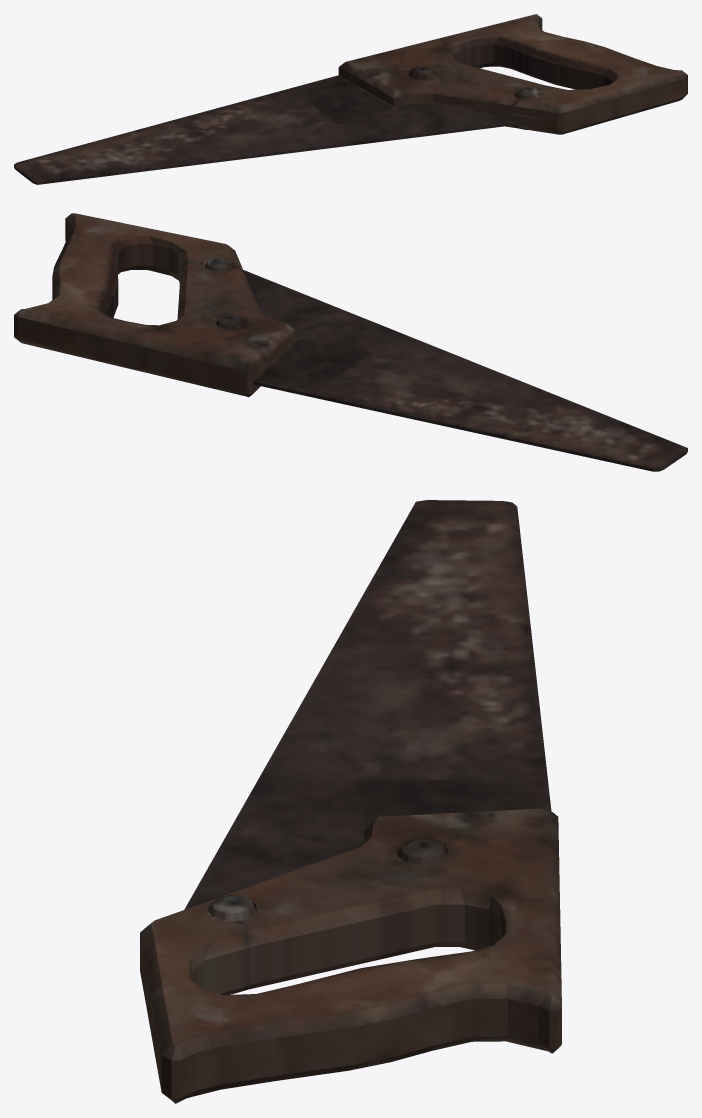
File: hand_saw_1.obj
3 renders of one model, top to bottom at view 1: azimuth 30°, elevation 25°; view 2: azimuth 150°, elevation 25°; view 3: azimuth 270°, elevation 25°, orthographic. The views are drawn at different scales.
Parts seen in each view (by area): view 1: hand_saw_1; view 2: hand_saw_1; view 3: hand_saw_1.
Boxes of the visible parts, x1,y1,x2,y2 form: hand_saw_1: (14,14,687,184); hand_saw_1: (14,213,687,471); hand_saw_1: (140,500,561,1103).
Bounding box in the file's own units: 0.7037 × 0.043 × 0.2175.
